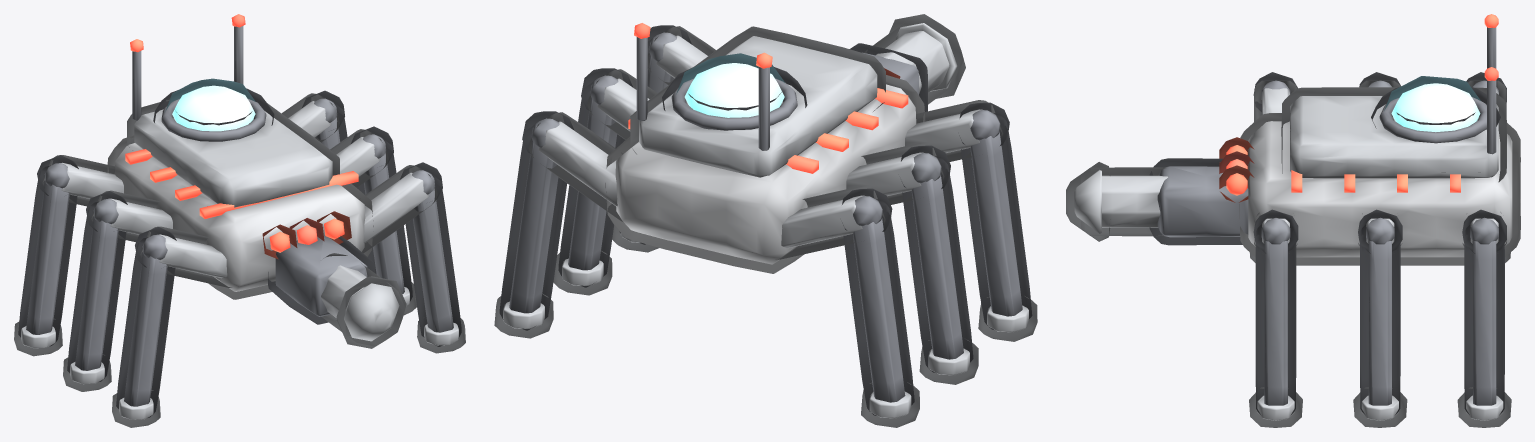
The model's file is siege_crawler.glb.
The picture shows the model from 3 angles, left to right: view 1: azimuth 30°, elevation 25°; view 2: azimuth 150°, elevation 25°; view 3: azimuth 270°, elevation 25°; orthographic projection. The views are drawn at different scales.
Visible parts, largest first — view 1: M_Body.007, M_Body.007_Outline, M_LegA_3, M_LegA_0, M_LegA_5, M_LegB_4, M_LegA_3_Outline, M_LegA_0_Outline, M_LegA_5_Outline, M_LegB_4_Outline, M_LegB_1, M_LegB_1_Outline (+2 smaller); view 2: M_Body.007, M_LegA_5, M_Body.007_Outline, M_LegA_2, M_LegA_3, M_LegB_4, M_LegA_5_Outline, M_LegA_2_Outline, M_LegA_3_Outline, M_LegB_4_Outline, M_LegB_1, M_LegB_1_Outline (+2 smaller); view 3: M_Body.007, M_Body.007_Outline, M_LegA_0, M_LegB_1, M_LegA_2, M_LegA_0_Outline, M_LegB_1_Outline, M_LegA_2_Outline, M_LegA_3, M_LegA_3_Outline.
Boxes of the visible parts, x1,y1,x2,y2 form: M_Body.007: (114,14,399,341); M_Body.007_Outline: (107,78,406,348); M_LegA_3: (119,234,227,419); M_LegA_0: (363,170,458,345); M_LegA_5: (21,162,123,348); M_LegB_4: (70,198,172,384); M_LegA_3_Outline: (112,226,231,427); M_LegA_0_Outline: (359,162,465,353); M_LegA_5_Outline: (14,155,114,356); M_LegB_4_Outline: (63,190,160,391); M_LegB_1: (336,134,409,305); M_LegB_1_Outline: (330,126,416,315); M_Body.007: (615,23,957,264); M_LegA_5: (781,195,911,418); M_Body.007_Outline: (605,14,965,273); M_LegA_2: (503,118,617,328); M_LegA_3: (905,109,1028,332); M_LegB_4: (846,152,969,375); M_LegA_5_Outline: (775,186,919,427); M_LegA_2_Outline: (494,111,622,338); M_LegA_3_Outline: (916,100,1037,341); M_LegB_4_Outline: (861,143,978,384); M_LegB_1: (562,75,649,285); M_LegB_1_Outline: (553,68,657,295); M_Body.007: (1074,14,1512,257); M_Body.007_Outline: (1066,76,1520,265); M_LegA_0: (1257,218,1294,420); M_LegB_1: (1361,217,1398,420); M_LegA_2: (1466,217,1503,420); M_LegA_0_Outline: (1249,209,1302,427); M_LegB_1_Outline: (1353,209,1407,427); M_LegA_2_Outline: (1457,209,1511,427); M_LegA_3: (1261,80,1290,114); M_LegA_3_Outline: (1249,72,1297,262).
Size of the model in its own units: 3.09 by 2.38 by 3.27.
